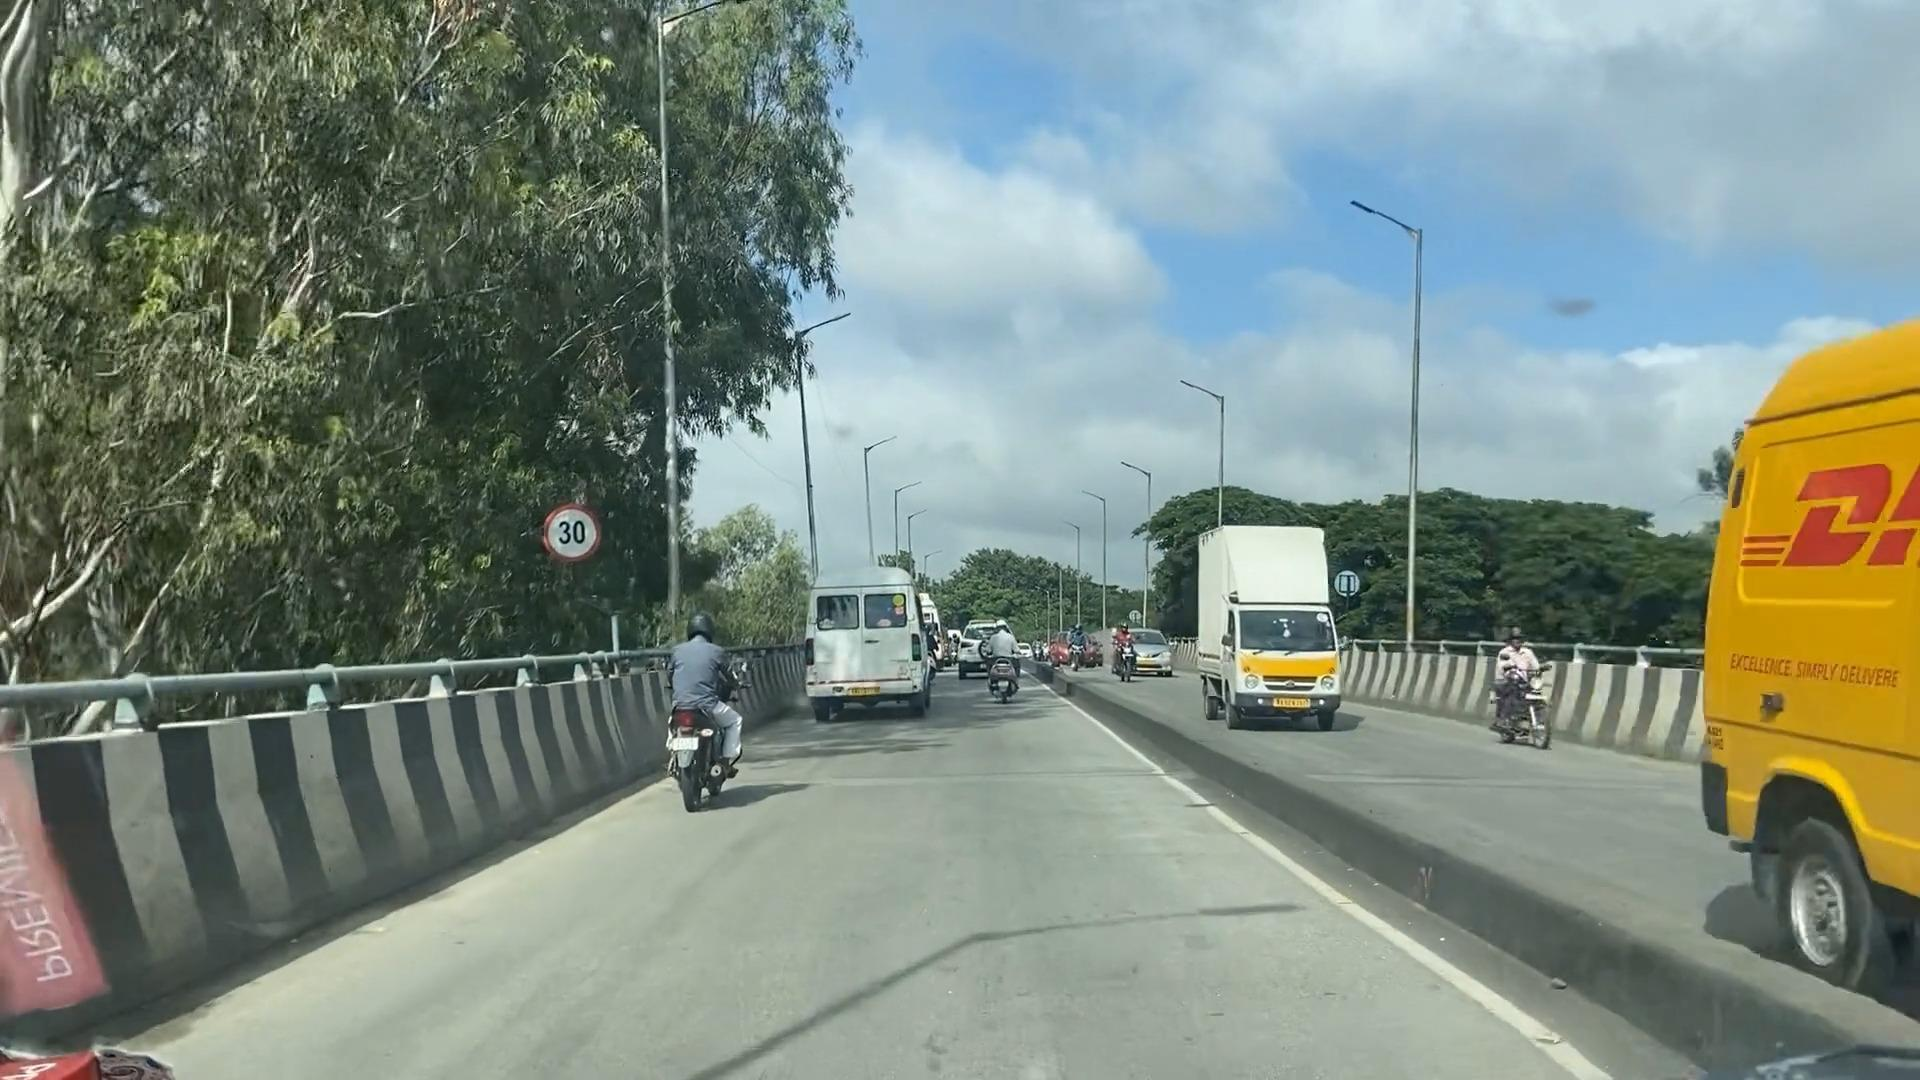HMV: (795, 566, 932, 732)
LMV: (654, 593, 733, 807), (980, 613, 1015, 704)
